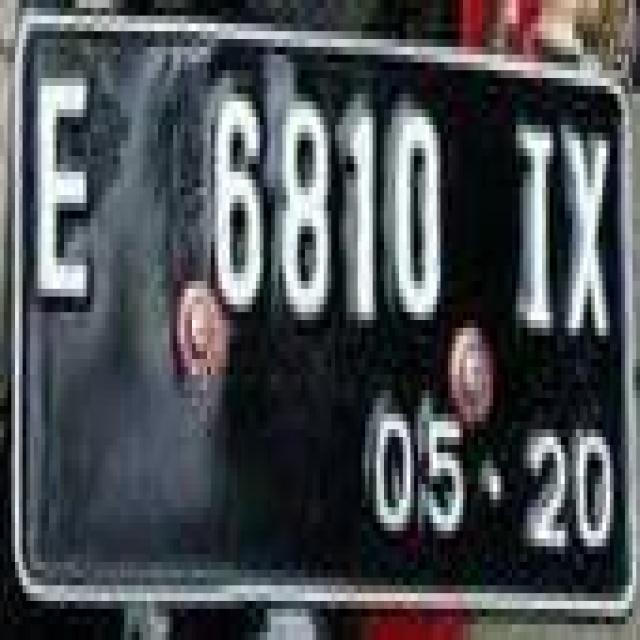0: (384, 94, 448, 336)
1: (335, 90, 384, 332)
6: (207, 82, 271, 332)
8: (273, 90, 337, 332)
E: (32, 66, 104, 324)
I: (510, 113, 559, 347)
X: (558, 113, 618, 347)
